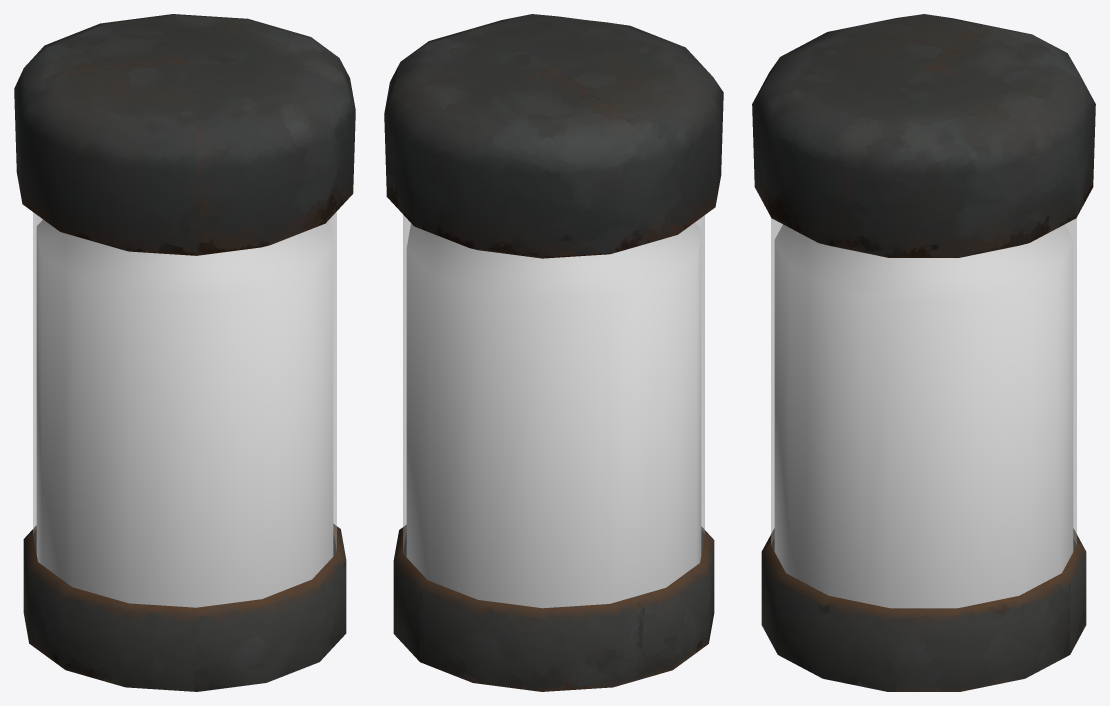
File: Colbe.fbx
3 views of the same model, side by side, from view 1: azimuth 30°, elevation 25°; view 2: azimuth 150°, elevation 25°; view 3: azimuth 270°, elevation 25° (orthographic).
Visible parts, largest first — view 1: Colbe; view 2: Colbe; view 3: Colbe.
Part boxes in pixels (left/top/right/bottom): Colbe: left=14, top=14, right=355, bottom=691; Colbe: left=384, top=14, right=723, bottom=691; Colbe: left=752, top=14, right=1095, bottom=691.
Size of the model in its own units: 604 by 1107 by 619.
